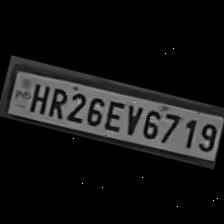1: (174, 113, 200, 150)
2: (61, 87, 88, 124)
6: (136, 104, 164, 142), (81, 92, 107, 128)
7: (156, 108, 182, 146)
9: (191, 118, 220, 154)
E: (100, 96, 127, 133)
H: (24, 78, 50, 115)
R: (44, 83, 68, 119)
V: (119, 101, 143, 137)
